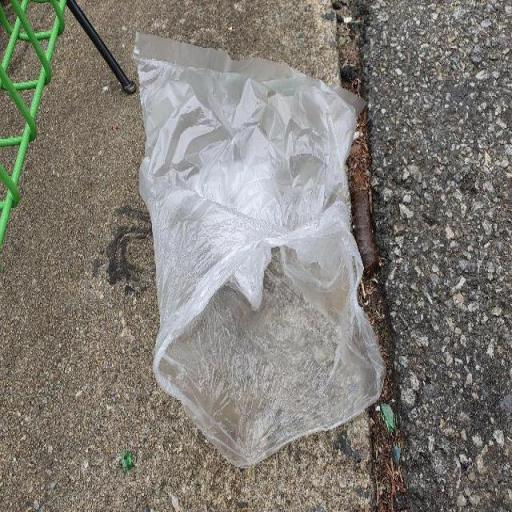plastic-bag: (130, 26, 390, 473)
